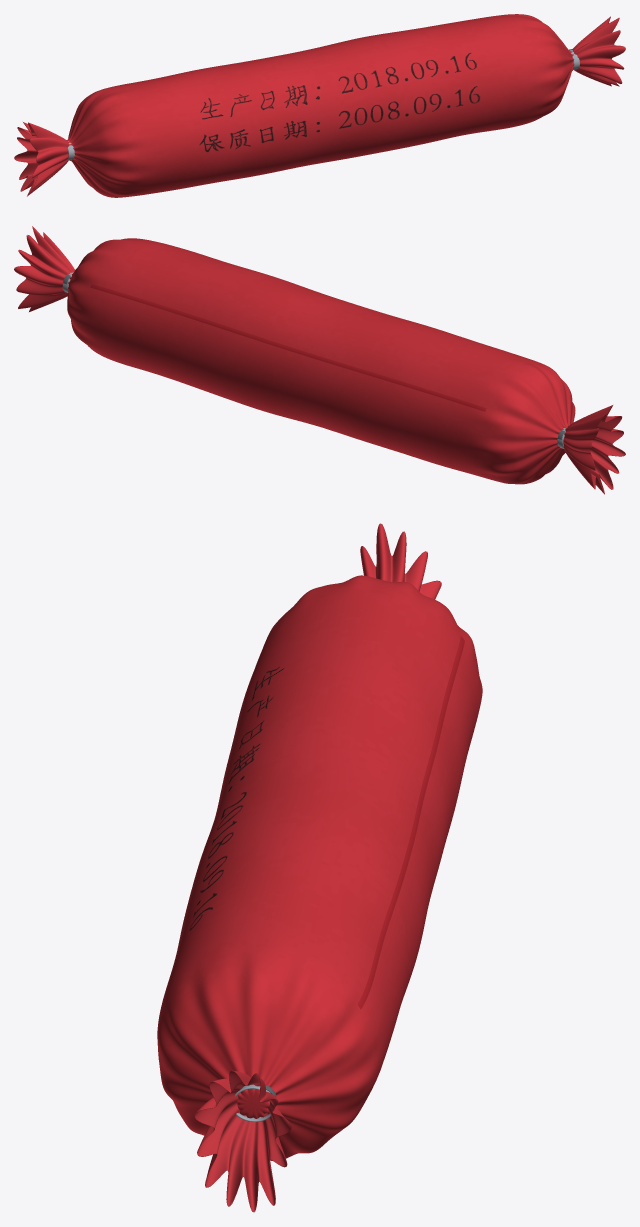
File: chunqiu-sausage.glb
3 renders of one model, top to bottom at view 1: azimuth 30°, elevation 25°; view 2: azimuth 150°, elevation 25°; view 3: azimuth 270°, elevation 25°, orthographic. The views are drawn at different scales.
Visible parts, largest first — view 1: 红色肠衣｜连续印刷主曲面, 左端｜展开聚拢薄膜与不规则扇口, 右端｜展开聚拢薄膜与不规则扇口; view 2: 红色肠衣｜连续印刷主曲面, 左端｜展开聚拢薄膜与不规则扇口, 右端｜展开聚拢薄膜与不规则扇口, 背面｜薄膜搭接压边（不可见区补建）; view 3: 红色肠衣｜连续印刷主曲面, 右端｜展开聚拢薄膜与不规则扇口, 左端｜展开聚拢薄膜与不规则扇口, 背面｜薄膜搭接压边（不可见区补建）.
Part boxes in pixels (bbox=[...]): 红色肠衣｜连续印刷主曲面: bbox=[67, 14, 574, 197]; 左端｜展开聚拢薄膜与不规则扇口: bbox=[14, 122, 69, 196]; 右端｜展开聚拢薄膜与不规则扇口: bbox=[572, 16, 625, 86]; 红色肠衣｜连续印刷主曲面: bbox=[67, 238, 575, 484]; 左端｜展开聚拢薄膜与不规则扇口: bbox=[563, 405, 625, 493]; 右端｜展开聚拢薄膜与不规则扇口: bbox=[14, 226, 74, 311]; 背面｜薄膜搭接压边（不可见区补建）: bbox=[90, 284, 486, 411]; 红色肠衣｜连续印刷主曲面: bbox=[157, 575, 482, 1160]; 右端｜展开聚拢薄膜与不规则扇口: bbox=[194, 1070, 291, 1211]; 左端｜展开聚拢薄膜与不规则扇口: bbox=[360, 524, 441, 599]; 背面｜薄膜搭接压边（不可见区补建）: bbox=[357, 636, 464, 1009].
Bounding box in the file's own units: 0.2269 × 0.0409 × 0.0571.
7 materials, 1 textured.
